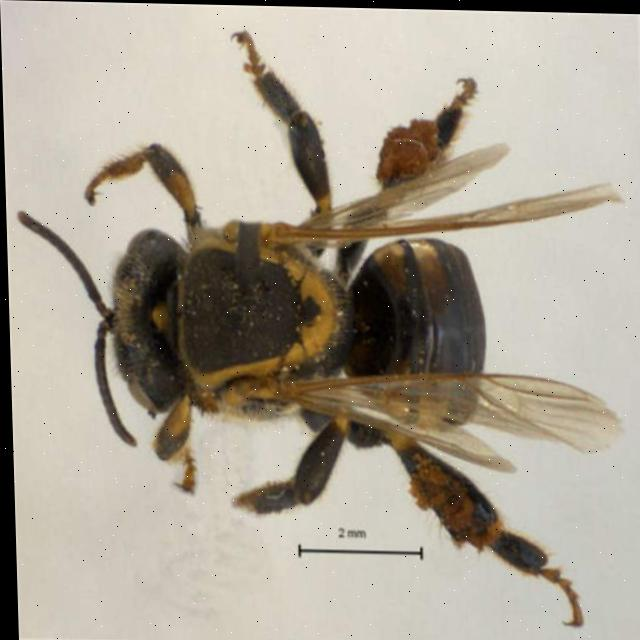Meliponula: (24, 18, 620, 639)
